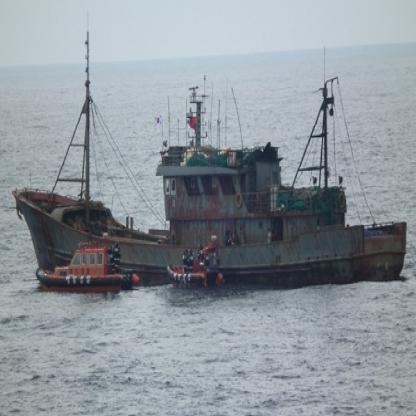fish-b: (8, 63, 411, 294)
